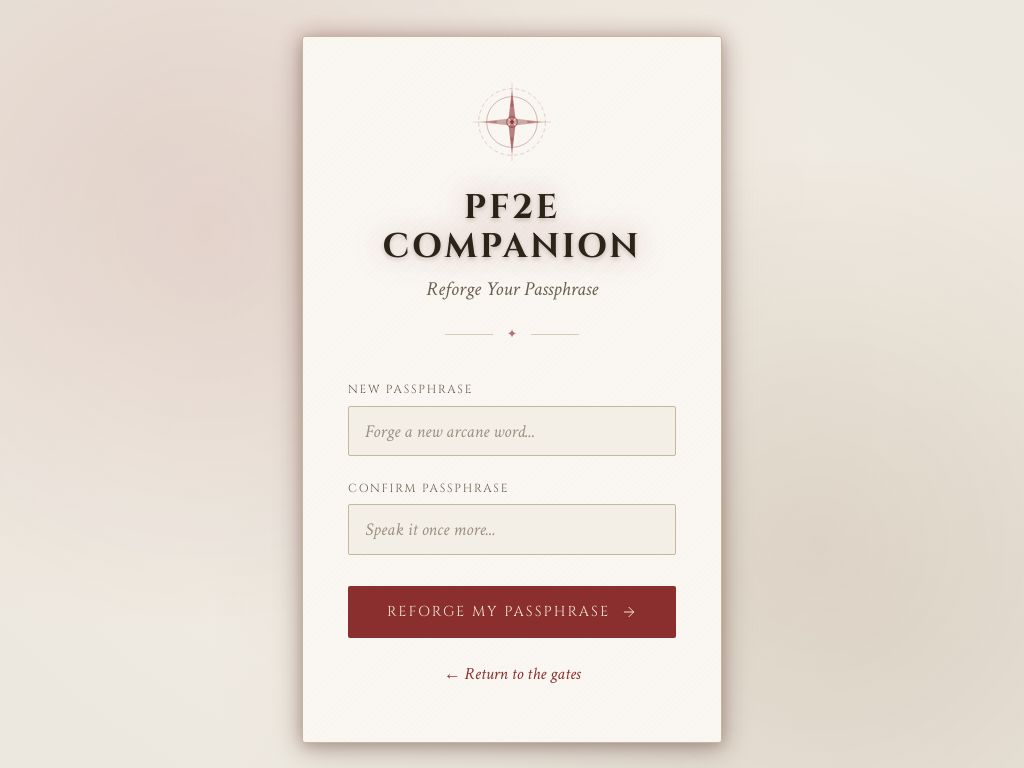
Scenario: ResetPassword › should show mismatch error when passwords differ
This screenshot has width=1024, height=768.
Step 1. Type "password123" into the password field labelled "New Passphrase" → (512, 431), box left=348, top=406, right=676, bottom=456
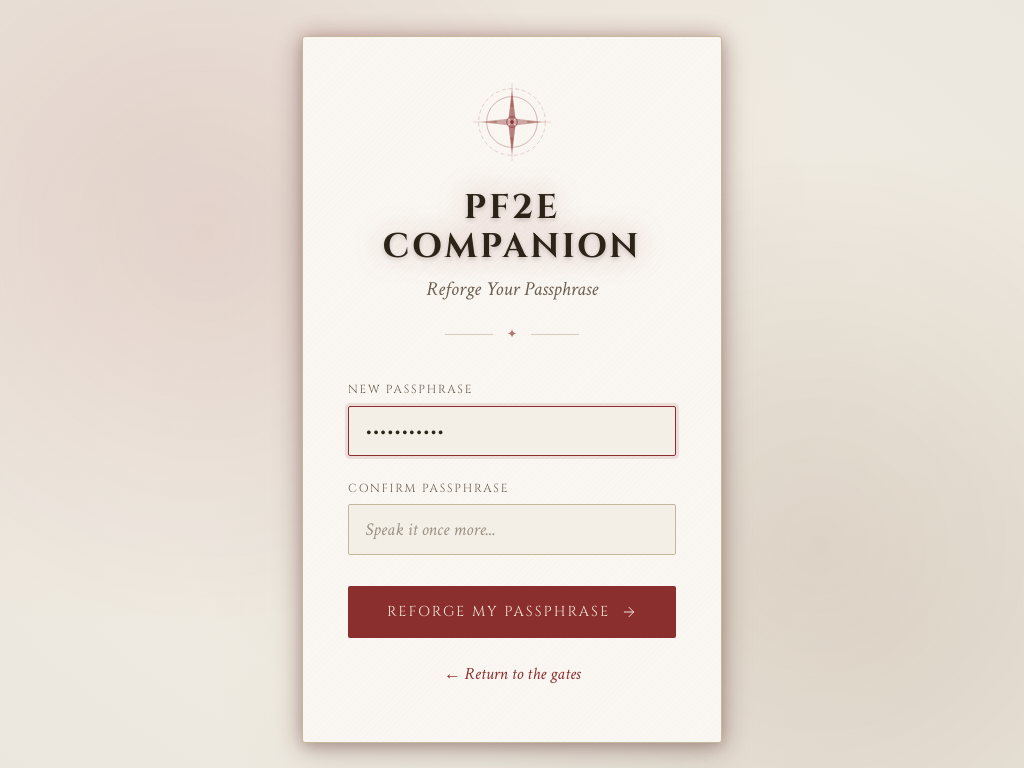
Step 2. Type "different" into the password field labelled "Confirm Passphrase" → (512, 529), box left=348, top=504, right=676, bottom=554
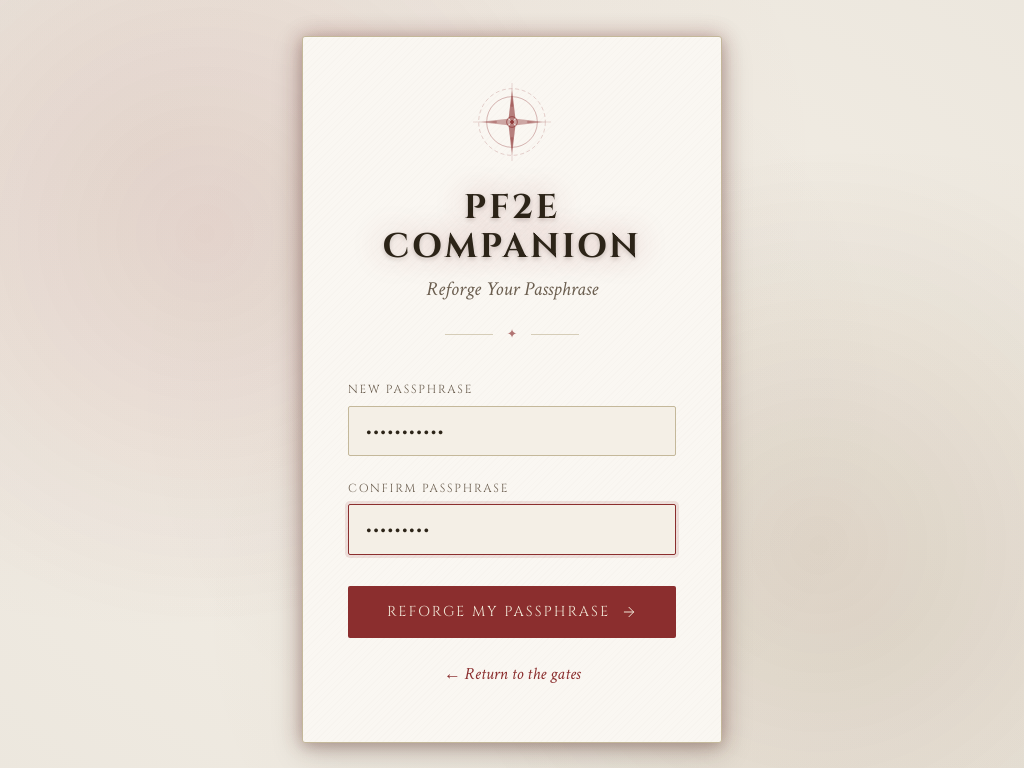
Step 3. Click the button "Reforge My Passphrase" → click(512, 612), box left=348, top=586, right=676, bottom=638
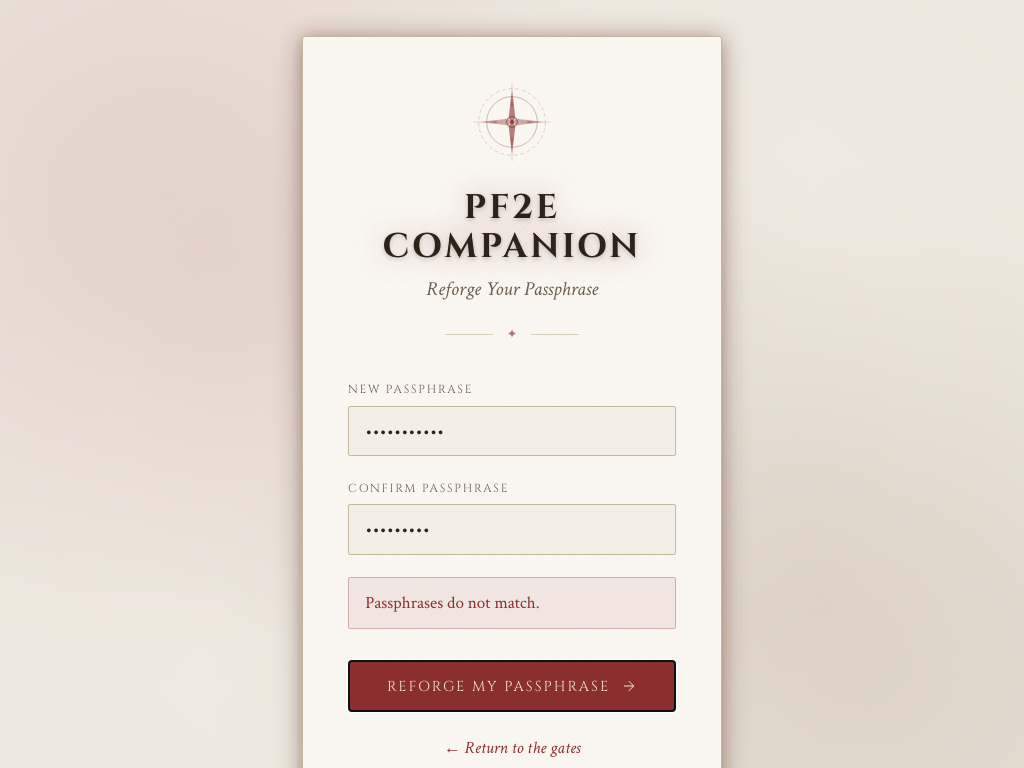
Expected: the message reads "Passphrases do not match.", left=365, top=592, right=540, bottom=614
